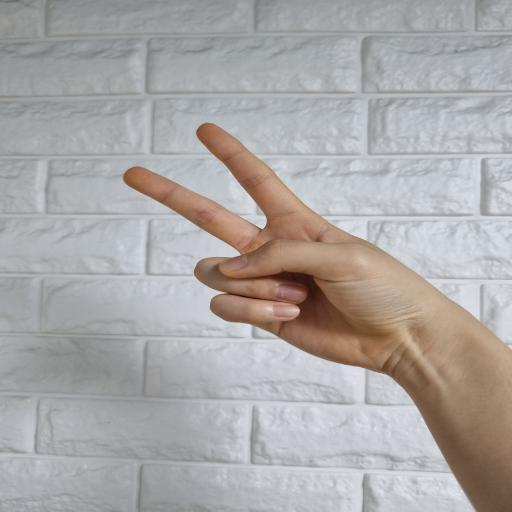Scissors: (123, 122, 512, 512)
